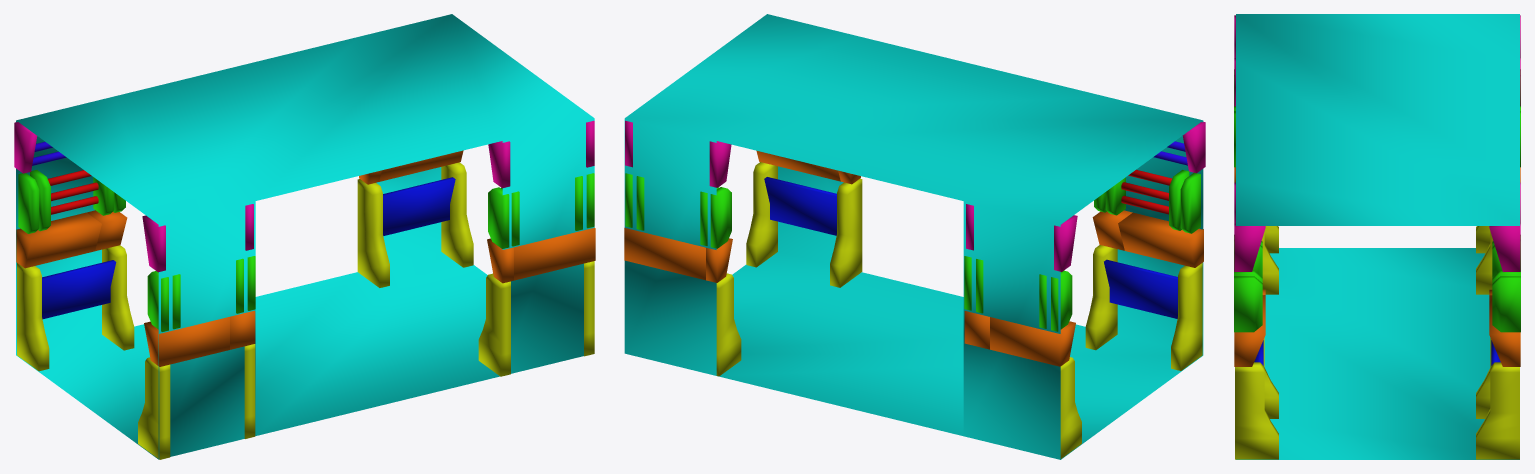
Rendered from road_midde.fbx.
3 views of the same model, side by side, from view 1: azimuth 30°, elevation 25°; view 2: azimuth 150°, elevation 25°; view 3: azimuth 270°, elevation 25° (orthographic).
Parts seen in each view (by area): view 1: Box005; view 2: Box005; view 3: Box005.
Part boxes in pixels (left/top/right/bottom): Box005: left=14, top=14, right=595, bottom=459; Box005: left=624, top=14, right=1205, bottom=459; Box005: left=1234, top=14, right=1520, bottom=459.
Bounding box in the file's own units: 116 × 59.29 × 65.87.
